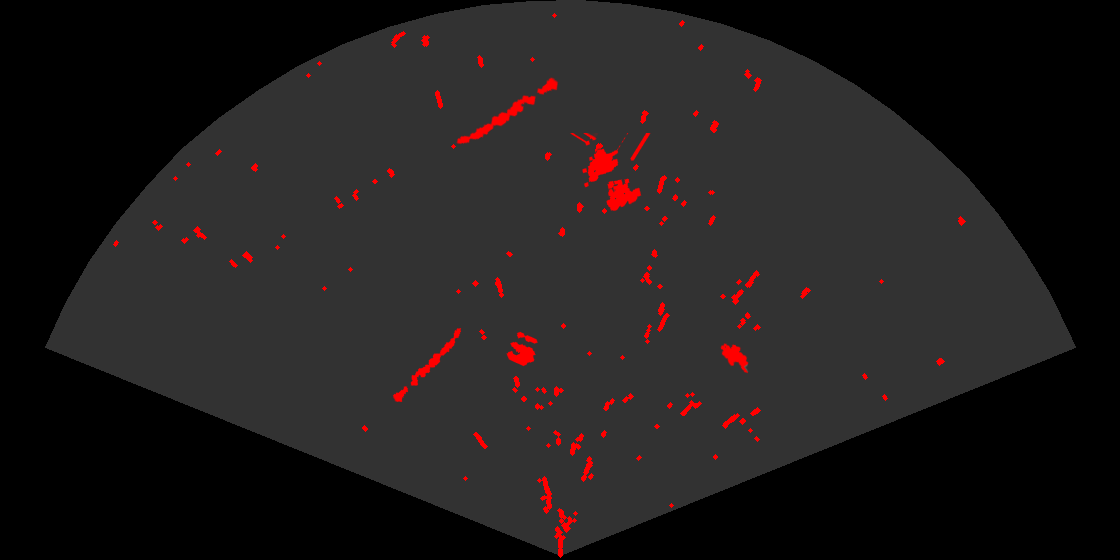AUV: (719, 342, 750, 375)
ball: (505, 330, 539, 368)
cage: (569, 133, 652, 213)
chain: (455, 76, 560, 146), (391, 326, 463, 404)
